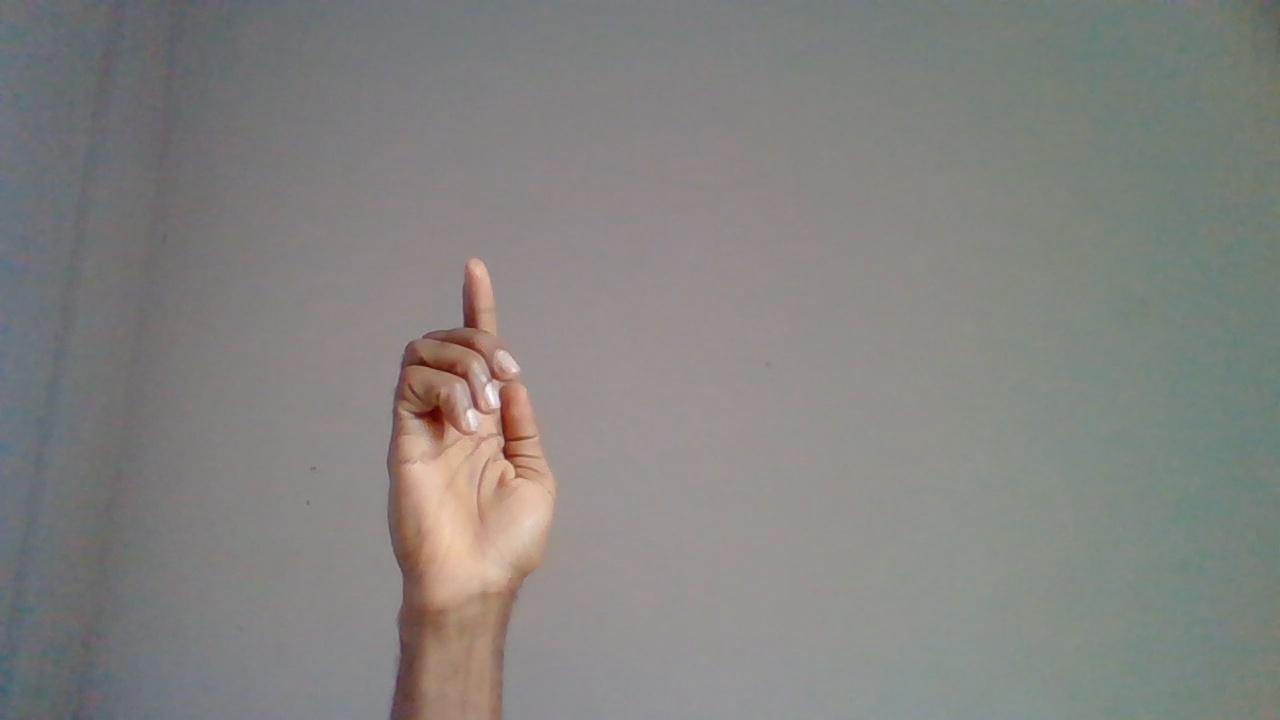qe: (384, 260, 566, 672)
